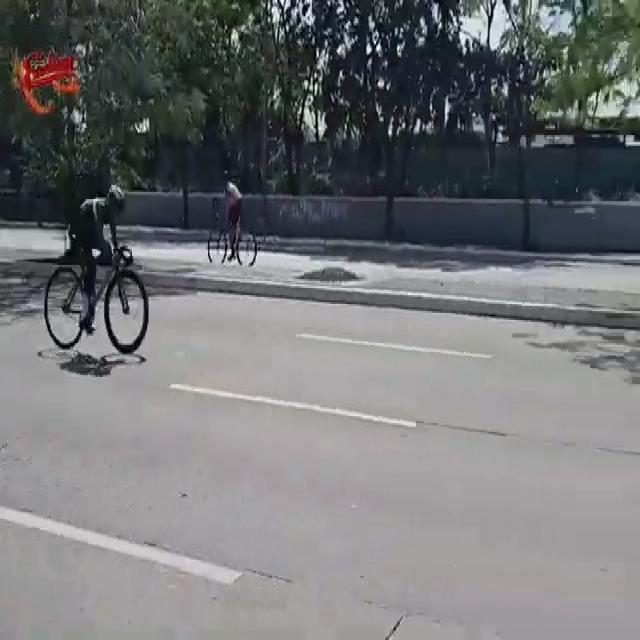bike: (46, 182, 152, 360), (204, 172, 260, 272)
